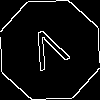V: (25, 25, 75, 80)
